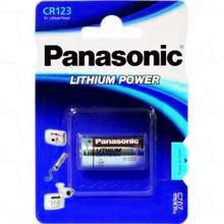battery: (76, 133, 148, 171)
book: (30, 0, 194, 224)
